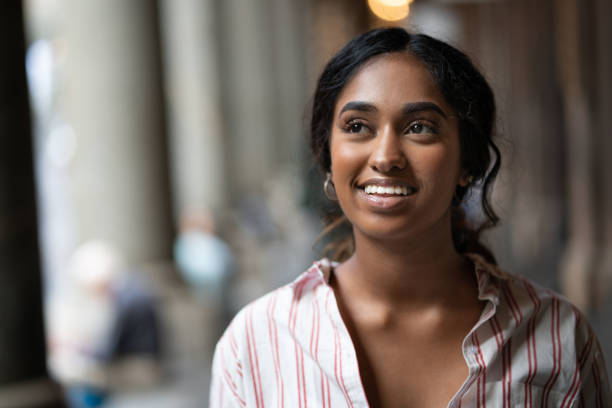person: (310, 25, 495, 253)
